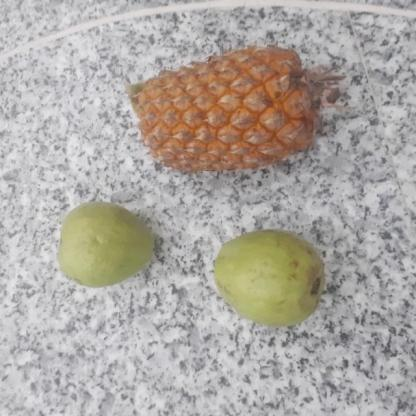guava: (213, 231, 327, 325), (57, 203, 159, 286)
pineapple: (131, 45, 334, 176)
